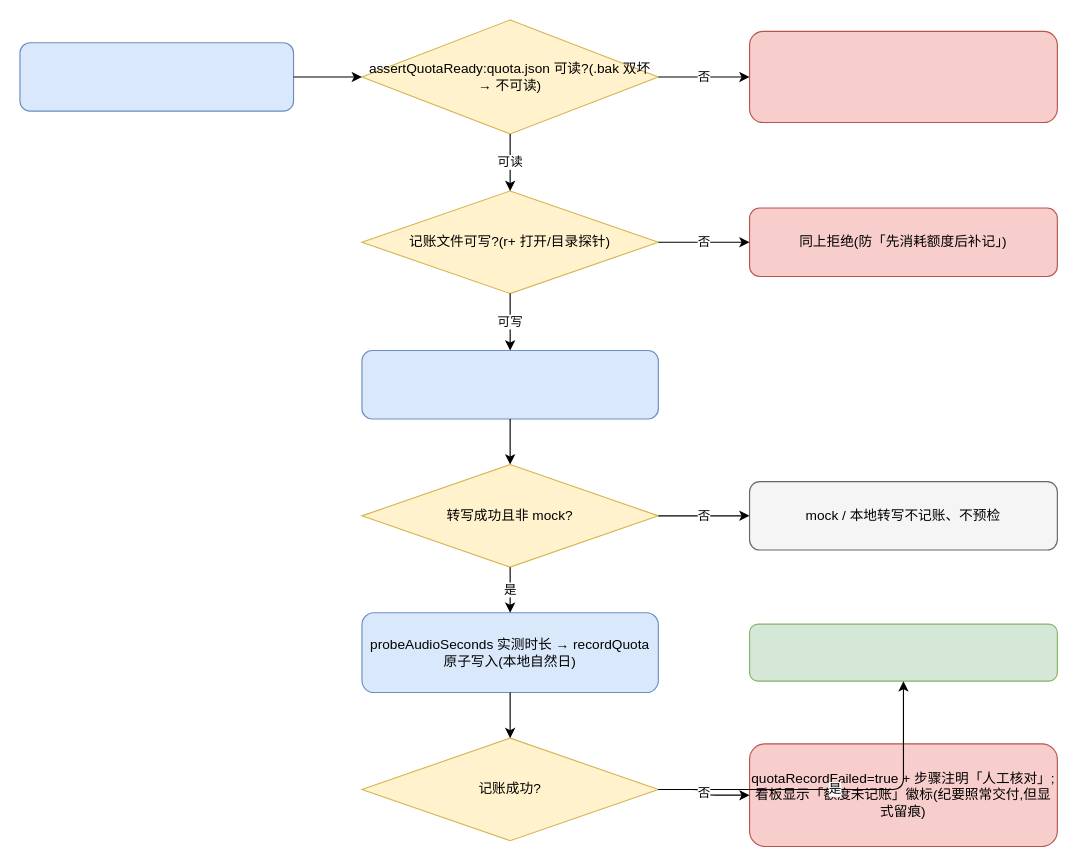
This 1077x866 diagram has some shape labels left out. The centre of each missing label's shape, as x and y in pixels:
"任务失败:错误含「人工修复」指引——不发起付费调用(stub 请求数零增长断言)" goes at point 902,76.
"发起付费转写(签名 → 分片上传 → 轮询)" goes at point 509,384.
"正常完成" goes at point 902,652.
"讯飞真实转写任务(非 demo)" goes at point 156,76.
